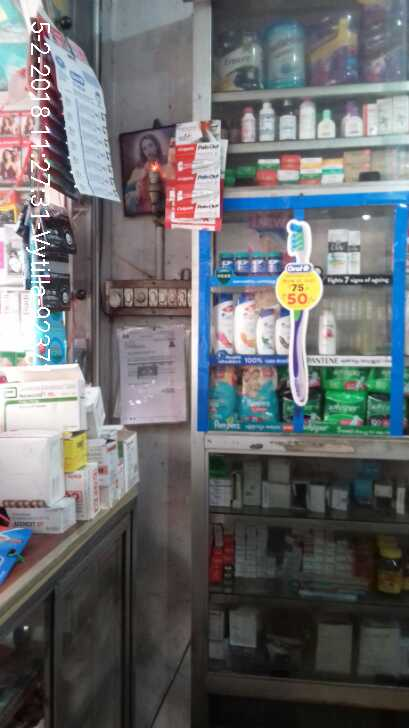vicks: (210, 247, 287, 278)
